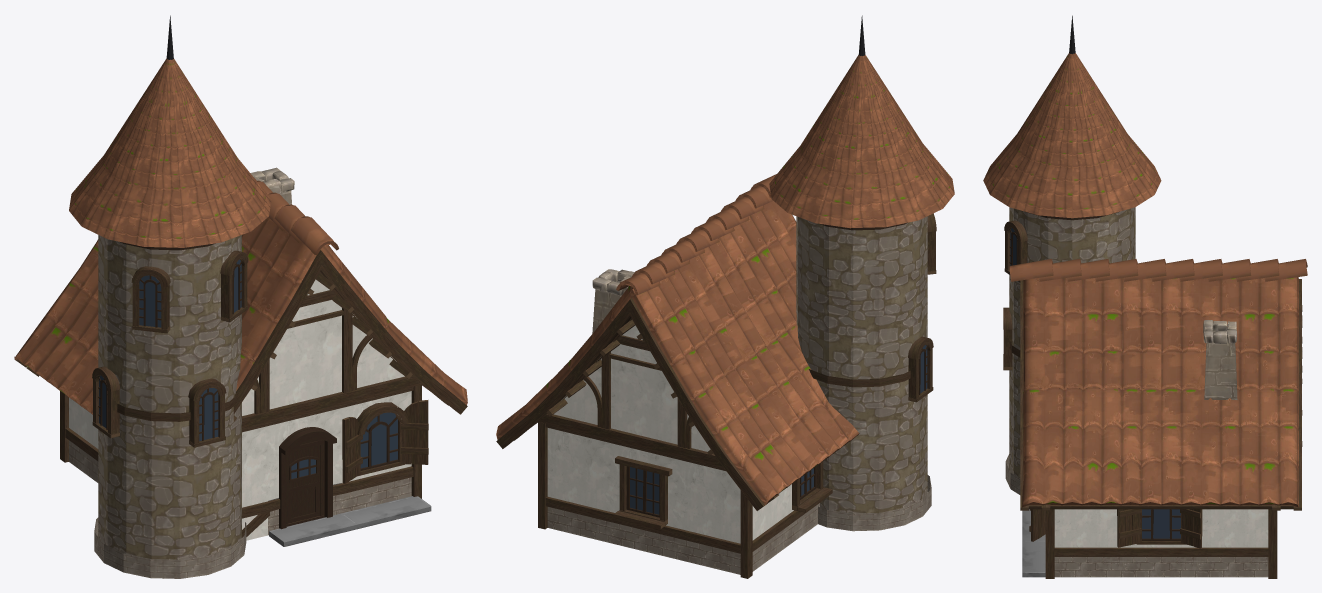
File: cottage_tower.glb
3 renders of one model, left to right at view 1: azimuth 30°, elevation 25°; view 2: azimuth 150°, elevation 25°; view 3: azimuth 270°, elevation 25°, orthographic. The views are drawn at different scales.
Visible parts, largest first — view 1: Tower.029, Roof_RoundTiles_6x6.025, TowerRoof.037, Roof_Front_Brick6.026, Wall_Plaster_Window_Wide_Round.005, Wall_Plaster_Door_Round.002, TowerPlinth.030, Door_1_Round.004, Wall_Plaster_Straight.001, Window_Wide_Round1.006, WindowShutters_Wide_Round_Open.007, Window_Thin_Round1.034 (+10 smaller); view 2: Roof_RoundTiles_6x6.025, Tower.029, TowerRoof.037, Roof_Front_Brick6.027, Wall_Plaster_Straight_Base.008, Wall_Plaster_Straight_Base.011, Wall_Plaster_Window_Wide_Flat.009, Window_Wide_Flat1.010, TowerPlinth.030, Wall_Plaster_Straight_Base.012, Window_Thin_Round1.036, Prop_Chimney.028 (+5 smaller); view 3: Roof_RoundTiles_6x6.025, TowerRoof.037, Tower.029, Wall_Plaster_Straight_Base.020, Wall_Plaster_Straight_Base.016, Prop_Chimney.028, Wall_Plaster_Window_Wide_Round.017, WindowShutters_Wide_Round_Open.019, Window_Wide_Round1.018, Window_Thin_Round1.035, Prop_ExteriorBorder_Straight1.040, Corner_Exterior_Wood.022 (+3 smaller).
Boxes of the visible parts, bbox=[...] form: Tower.029: bbox=[98, 235, 241, 559]; Roof_RoundTiles_6x6.025: bbox=[14, 178, 467, 414]; TowerRoof.037: bbox=[69, 58, 271, 247]; Roof_Front_Brick6.026: bbox=[233, 273, 422, 428]; Wall_Plaster_Window_Wide_Round.005: bbox=[341, 387, 413, 513]; Wall_Plaster_Door_Round.002: bbox=[268, 404, 343, 535]; TowerPlinth.030: bbox=[94, 517, 246, 578]; Door_1_Round.004: bbox=[286, 439, 324, 526]; Wall_Plaster_Straight.001: bbox=[242, 422, 269, 540]; Window_Wide_Round1.006: bbox=[356, 402, 409, 476]; WindowShutters_Wide_Round_Open.007: bbox=[342, 400, 428, 483]; Window_Thin_Round1.034: bbox=[131, 266, 170, 333]; Roof_RoundTiles_6x6.025: bbox=[496, 174, 859, 510]; Tower.029: bbox=[796, 216, 927, 513]; TowerRoof.037: bbox=[769, 55, 954, 228]; Roof_Front_Brick6.027: bbox=[537, 319, 722, 466]; Wall_Plaster_Straight_Base.008: bbox=[545, 424, 611, 543]; Wall_Plaster_Straight_Base.011: bbox=[677, 456, 740, 574]; Wall_Plaster_Window_Wide_Flat.009: bbox=[609, 439, 678, 559]; Window_Wide_Flat1.010: bbox=[613, 456, 672, 529]; TowerPlinth.030: bbox=[818, 475, 931, 531]; Wall_Plaster_Straight_Base.012: bbox=[752, 489, 788, 571]; Window_Thin_Round1.036: bbox=[908, 336, 933, 402]; Prop_Chimney.028: bbox=[592, 269, 634, 333]; Roof_RoundTiles_6x6.025: bbox=[1009, 259, 1307, 510]; TowerRoof.037: bbox=[983, 53, 1161, 218]; Tower.029: bbox=[1009, 207, 1135, 477]; Wall_Plaster_Straight_Base.020: bbox=[1198, 509, 1268, 577]; Wall_Plaster_Straight_Base.016: bbox=[1054, 509, 1124, 577]; Prop_Chimney.028: bbox=[1203, 320, 1237, 399]; Wall_Plaster_Window_Wide_Round.017: bbox=[1124, 544, 1198, 577]; WindowShutters_Wide_Round_Open.019: bbox=[1117, 509, 1202, 548]; Window_Wide_Round1.018: bbox=[1136, 509, 1185, 544]; Window_Thin_Round1.035: bbox=[1004, 220, 1027, 282]; Prop_ExteriorBorder_Straight1.040: bbox=[1022, 541, 1045, 577]; Corner_Exterior_Wood.022: bbox=[1045, 509, 1054, 578].
Size of the model in its own units: 9.82 by 13.81 by 8.74.
8 materials, 6 textured.
